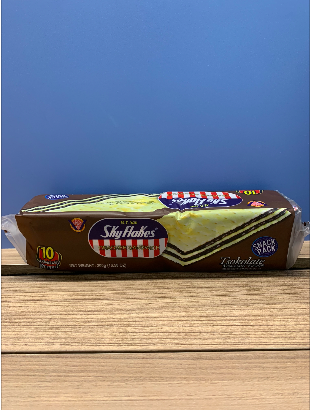Crackers_300-399g: (36, 195, 289, 267)
